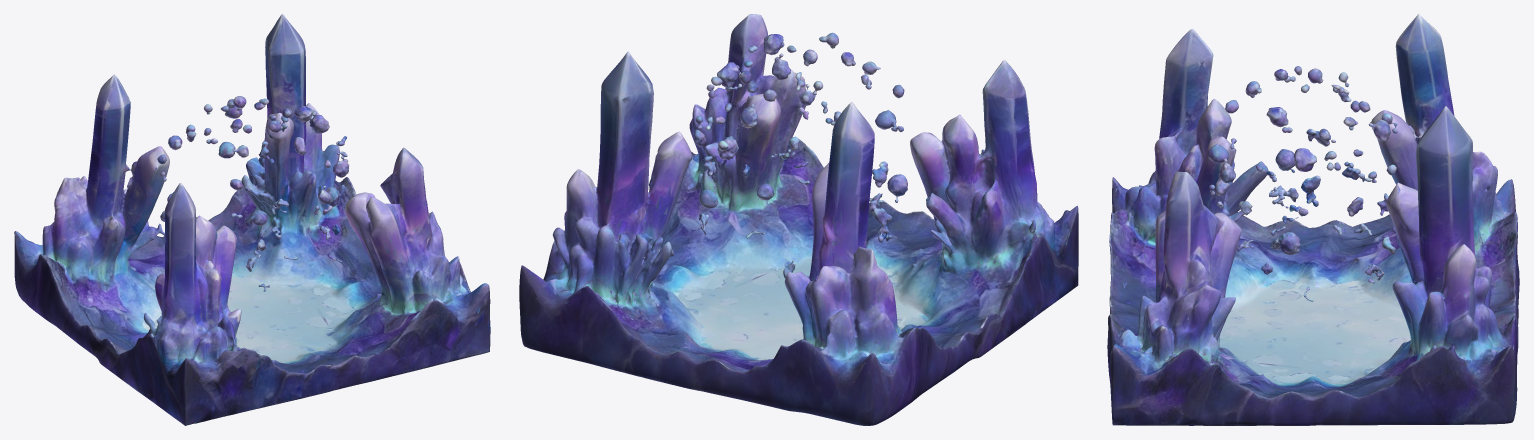
Rendered from _PBR_Hyper_detailed.glb.
3 renders of one model, left to right at view 1: azimuth 30°, elevation 25°; view 2: azimuth 150°, elevation 25°; view 3: azimuth 270°, elevation 25°, orthographic. The views are drawn at different scales.
Visible parts, largest first — view 1: _PBR_Hyper_detailed; view 2: _PBR_Hyper_detailed; view 3: _PBR_Hyper_detailed.
Part boxes in pixels (x1,y1,x2,y2): _PBR_Hyper_detailed: (14, 14, 490, 425); _PBR_Hyper_detailed: (519, 14, 1078, 425); _PBR_Hyper_detailed: (1107, 14, 1519, 425).
Bounding box in the file's own units: 1.82 × 1.39 × 1.82.
Materials: 1 (1 with a texture image).
